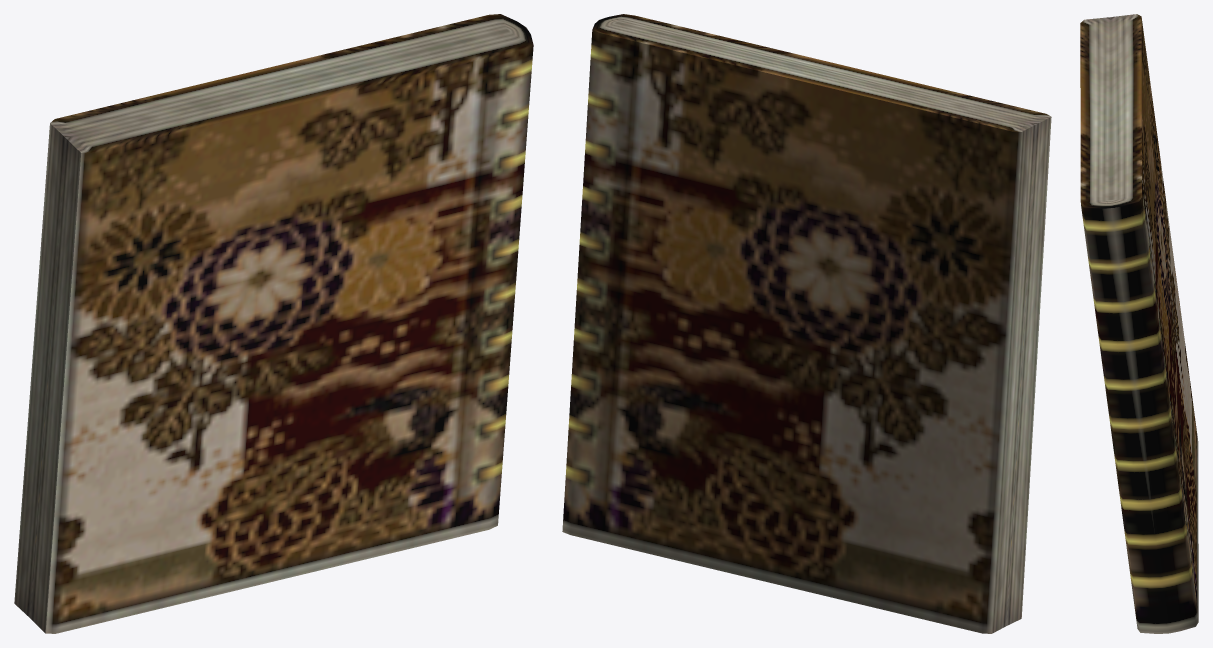
File: zero-b-album4.ico.obj
3 renders of one model, left to right at view 1: azimuth 30°, elevation 25°; view 2: azimuth 150°, elevation 25°; view 3: azimuth 270°, elevation 25°, orthographic. The views are drawn at different scales.
Bounding box in the file's own units: 3.58 × 3.79 × 0.9373.
Materials: 1 (1 with a texture image).
